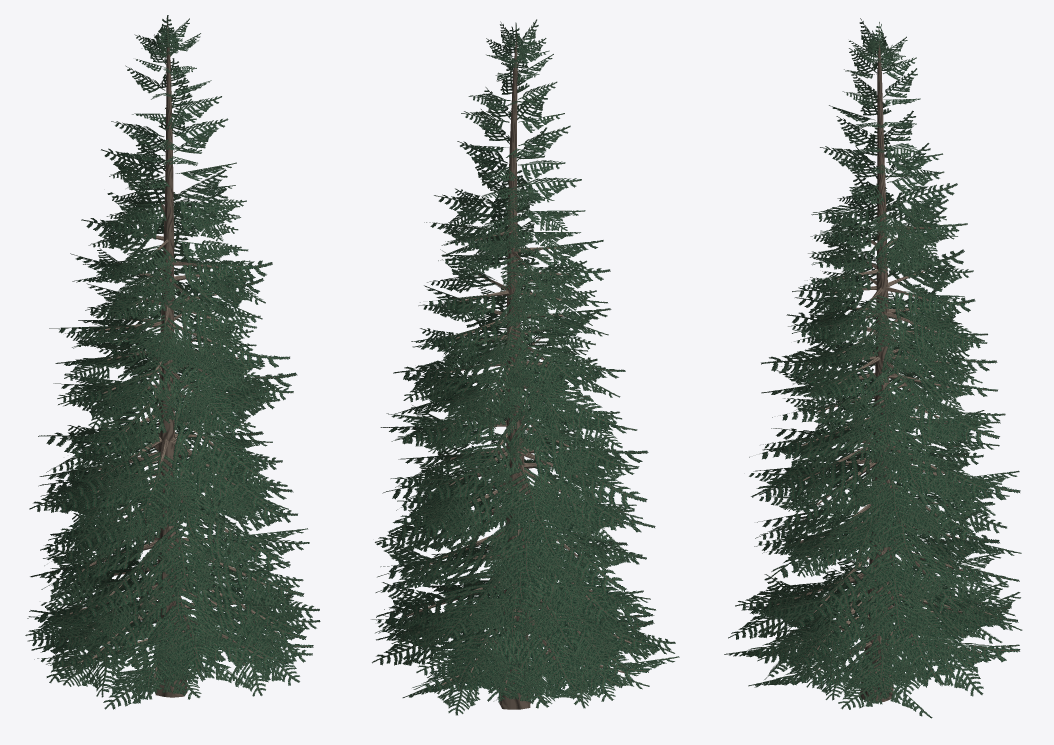
The model's file is environment_fir1_v1.fbx.
The picture shows the model from 3 angles, left to right: view 1: azimuth 30°, elevation 25°; view 2: azimuth 150°, elevation 25°; view 3: azimuth 270°, elevation 25°; orthographic projection.
Parts seen in each view (by area): view 1: environment_fir1_v1_lod0; view 2: environment_fir1_v1_lod0; view 3: environment_fir1_v1_lod0.
Boxes of the visible parts, <box> form: environment_fir1_v1_lod0: <box>25,15,320,709</box>; environment_fir1_v1_lod0: <box>371,19,679,715</box>; environment_fir1_v1_lod0: <box>724,18,1022,718</box>.
Size of what is drawn, in the model's own units: 1154 by 2520 by 1099.
